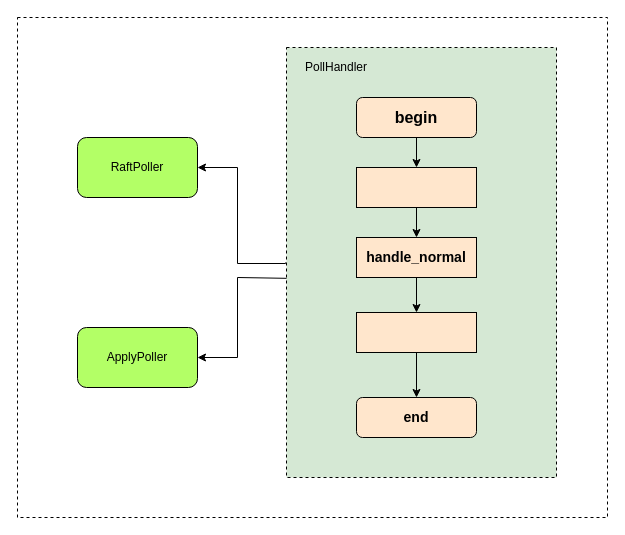
Image size: 625x535. Some labels were removed from this diagram. The shapes that lost their labels are listed below. From the top down, each one's box as (x1, y1, x2, y2) in pixels, then its label:
(356, 166, 476, 208): handle_control
(356, 312, 476, 352): light_end
